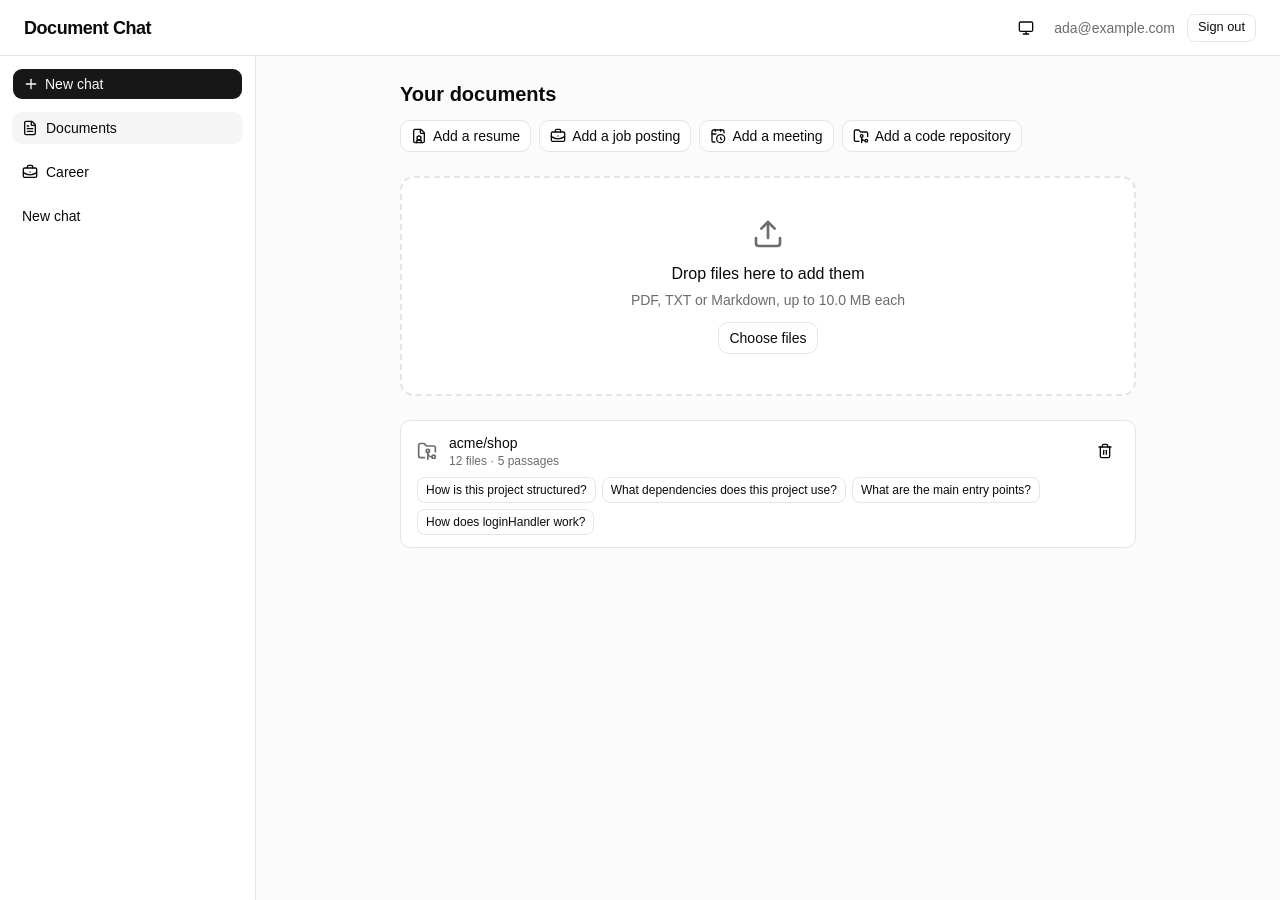
Test: suggested questions about a code repository › are on the card of the repository, and start a chat from there
Click the button "What are the main entry points?" at (946, 490), box [852,477,1040,503]
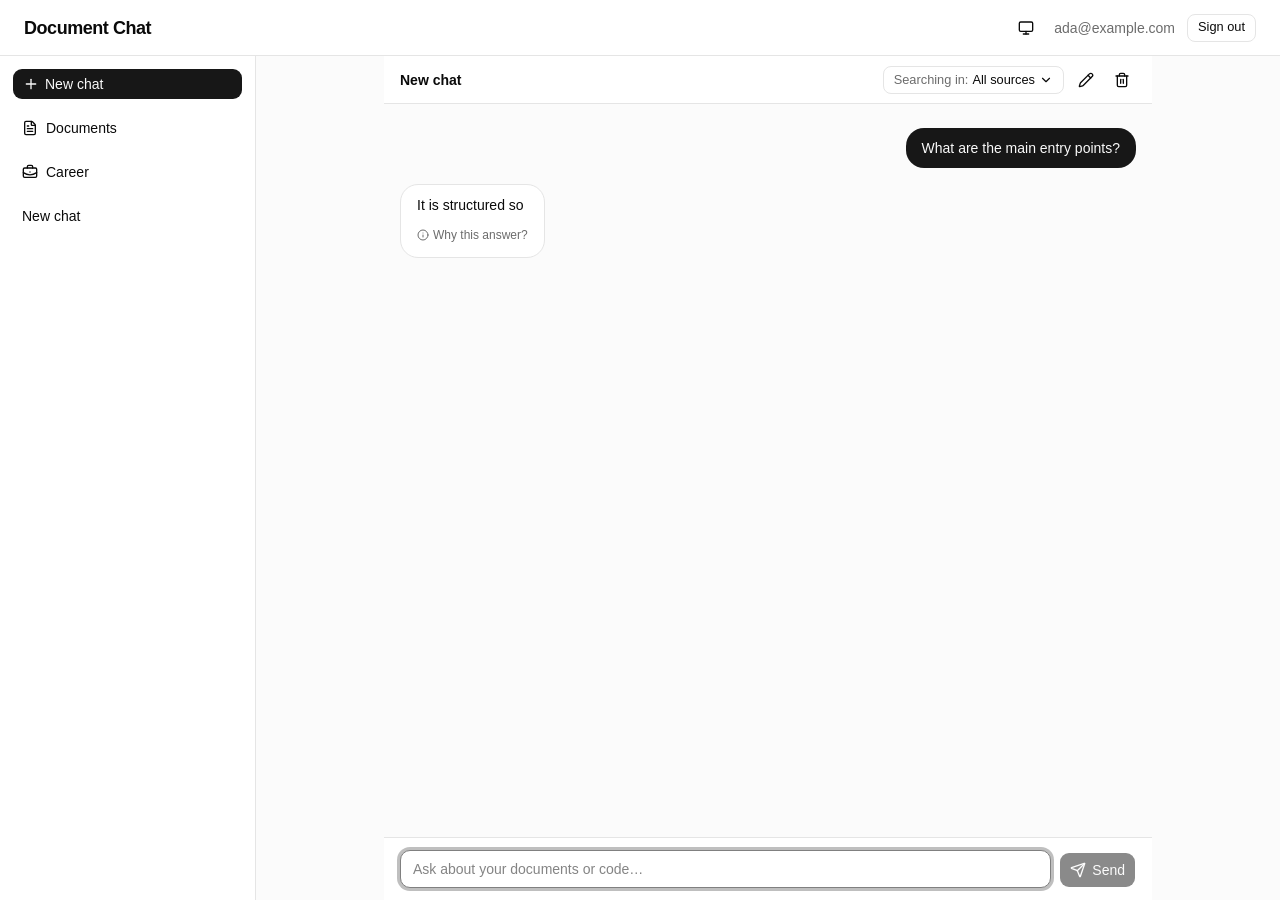
Now the text "It is structured so" is shown, box [417,195,528,215]
